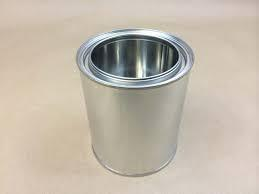Tin: (58, 13, 197, 186)
